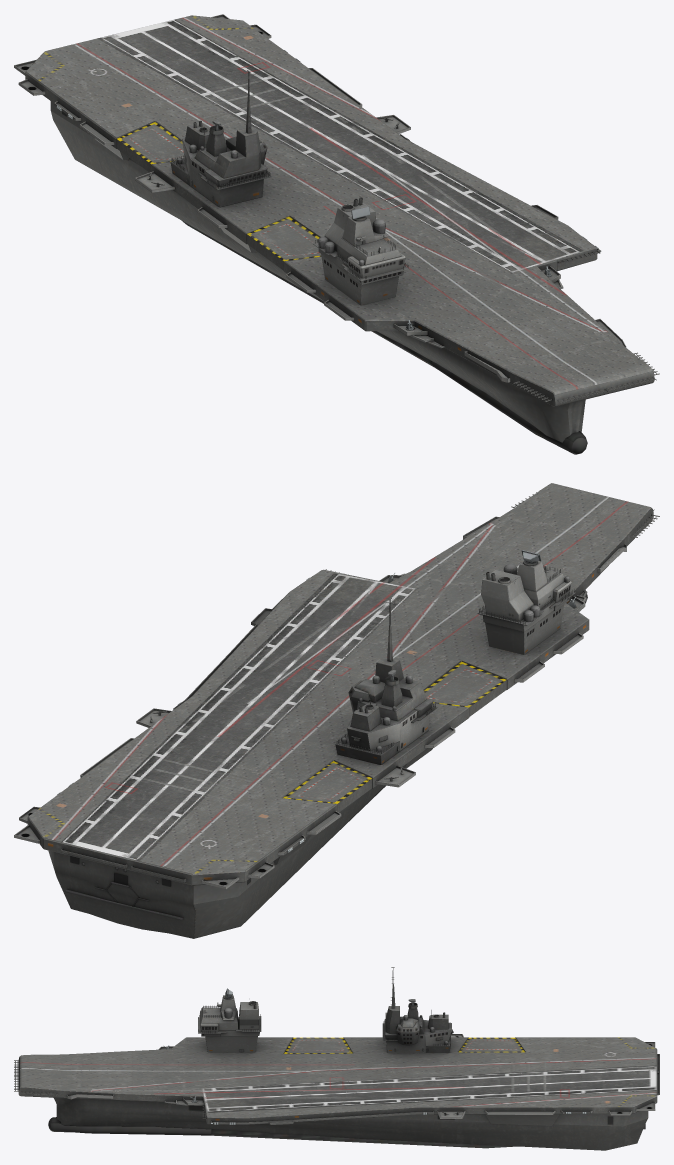
Rendered from Queen Elizabeth.obj.
3 views of the same model, one above another, from view 1: azimuth 30°, elevation 25°; view 2: azimuth 150°, elevation 25°; view 3: azimuth 270°, elevation 25° (orthographic). The views are drawn at different scales.
Visible parts, largest first — view 1: Queen_Elizabeth; view 2: Queen_Elizabeth; view 3: Queen_Elizabeth.
Part boxes in pixels (left/top/right/bottom): Queen_Elizabeth: left=14, top=14, right=659, bottom=454; Queen_Elizabeth: left=14, top=483, right=659, bottom=938; Queen_Elizabeth: left=14, top=967, right=659, bottom=1150.
Bounding box in the file's own units: 2.95 × 2.21 × 8.99.
